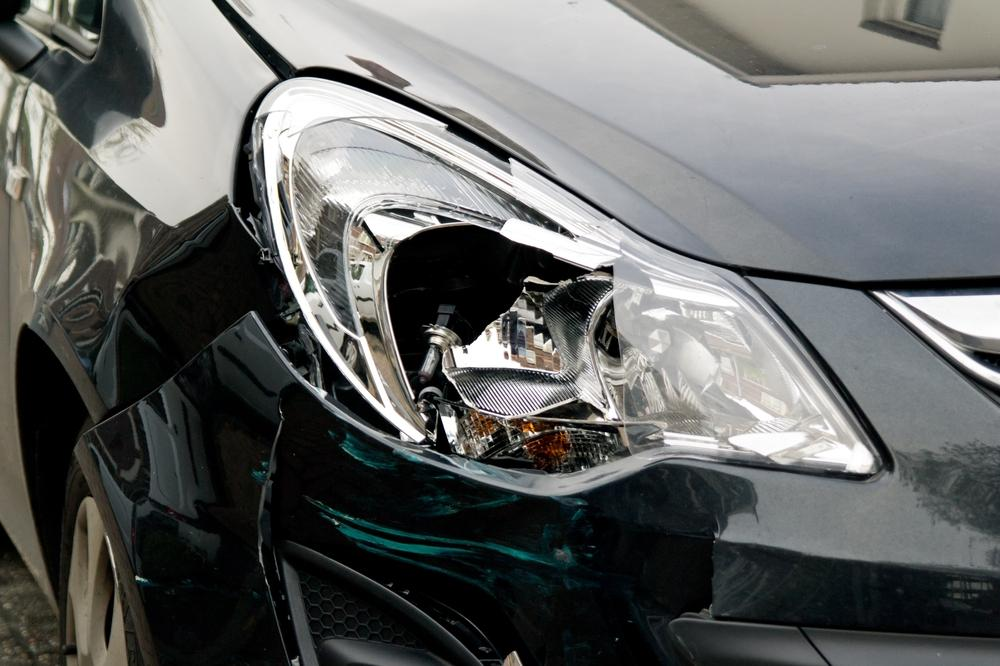dent: (117, 204, 255, 408)
lamp broken: (256, 75, 890, 483)
scratch: (303, 418, 613, 610)
